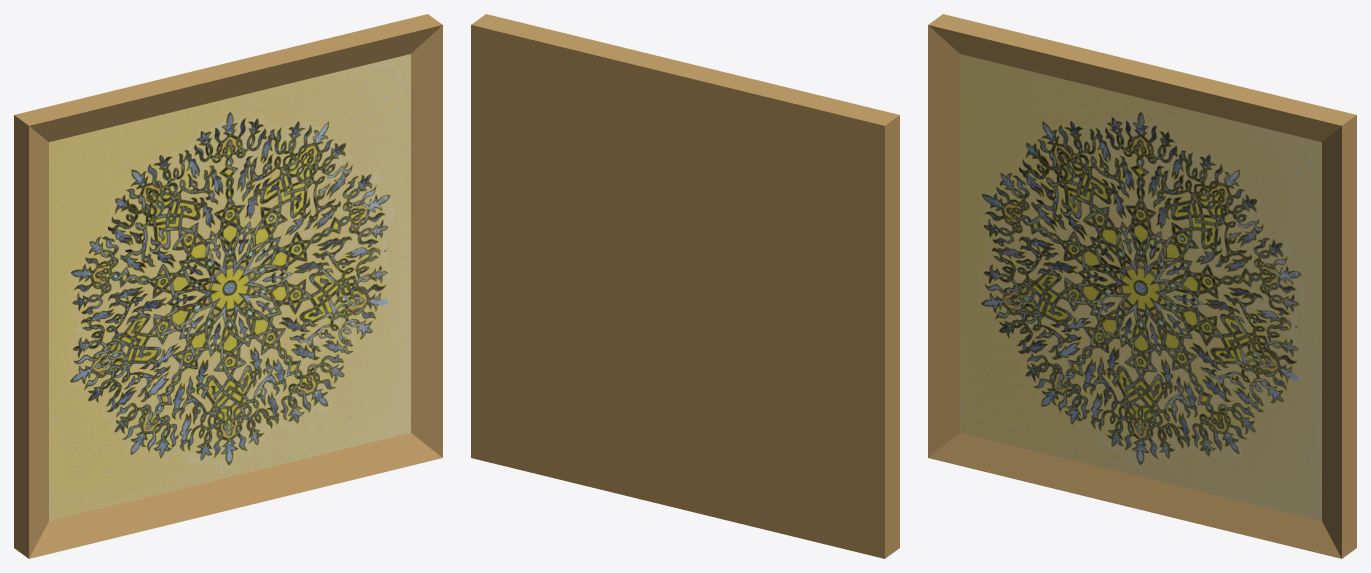
The model's file is slipper-orchids-orchids30-manipura-yellow-a2-natural-oak-v2.glb.
3 renders of one model, left to right at view 1: azimuth 30°, elevation 25°; view 2: azimuth 150°, elevation 25°; view 3: azimuth 330°, elevation 25°, orthographic.
Parts seen in each view (by area): view 1: FramedPrint; view 2: FramedPrint; view 3: FramedPrint.
Part boxes in pixels (<box>): FramedPrint: <box>14,14,442,558</box>; FramedPrint: <box>471,14,899,558</box>; FramedPrint: <box>928,14,1356,558</box>.
Bounding box in the file's own units: 0.48 × 0.48 × 0.03.
Materials: 2 (1 with a texture image).
